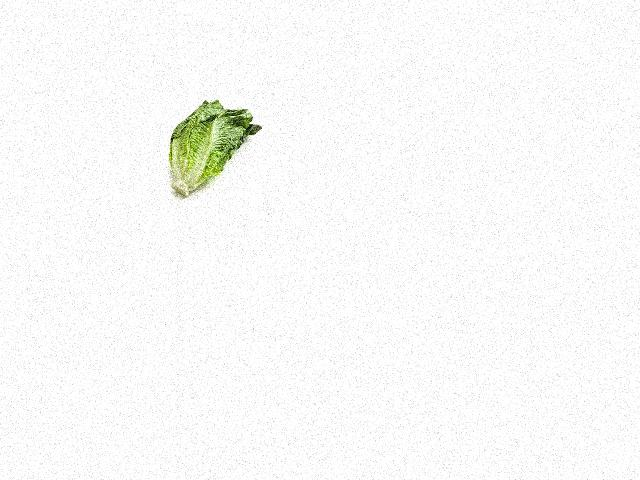lettuce: (166, 95, 260, 193)
